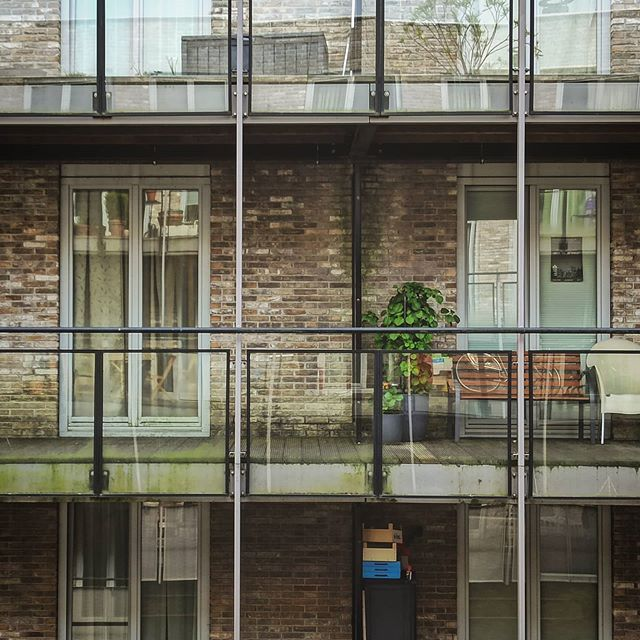bench: (448, 340, 598, 425)
building: (1, 1, 640, 640)
door: (64, 182, 204, 425), (465, 178, 605, 421)
